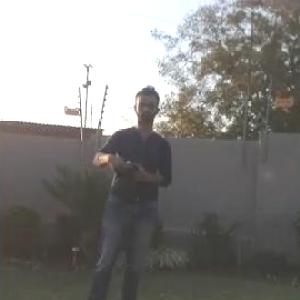follow: (76, 80, 178, 299)
